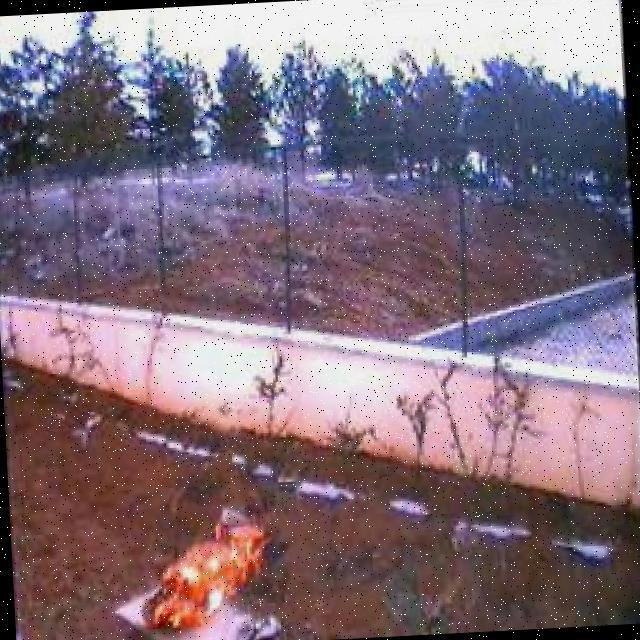Fire: (138, 526, 266, 638)
